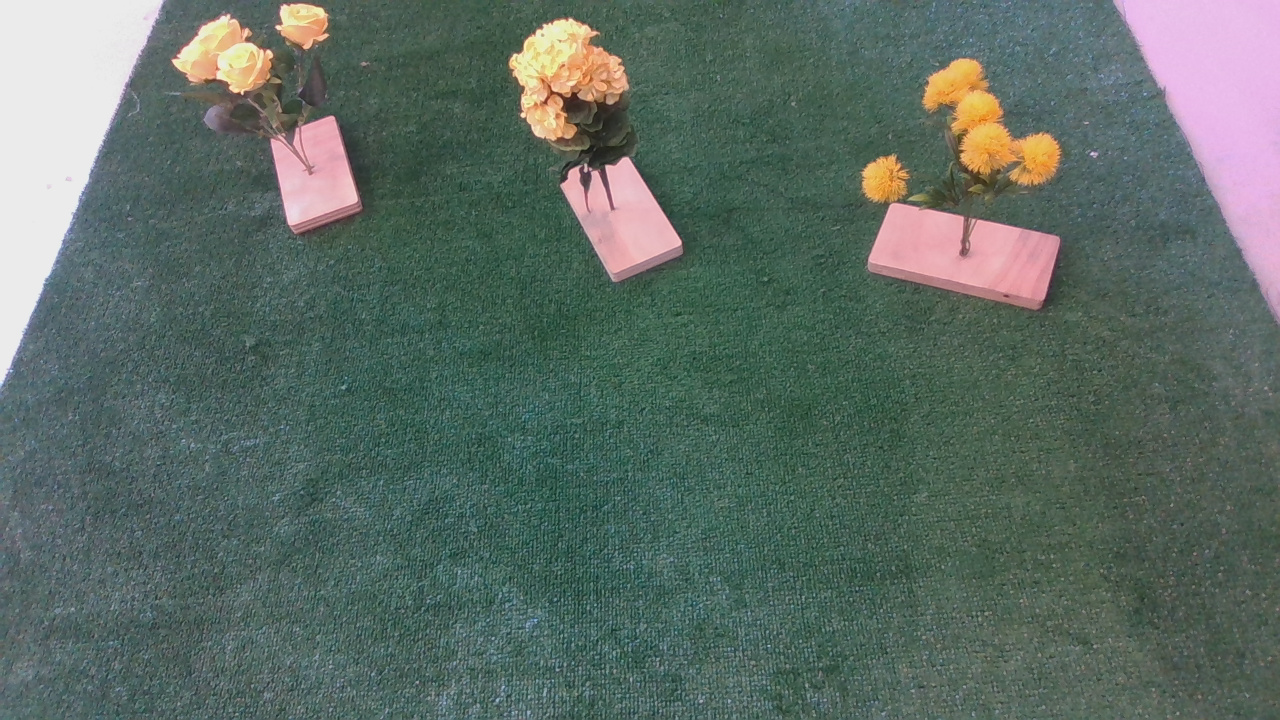dandelion: (859, 59, 1095, 227)
geranium: (504, 13, 650, 199)
rose: (171, 3, 352, 146)
